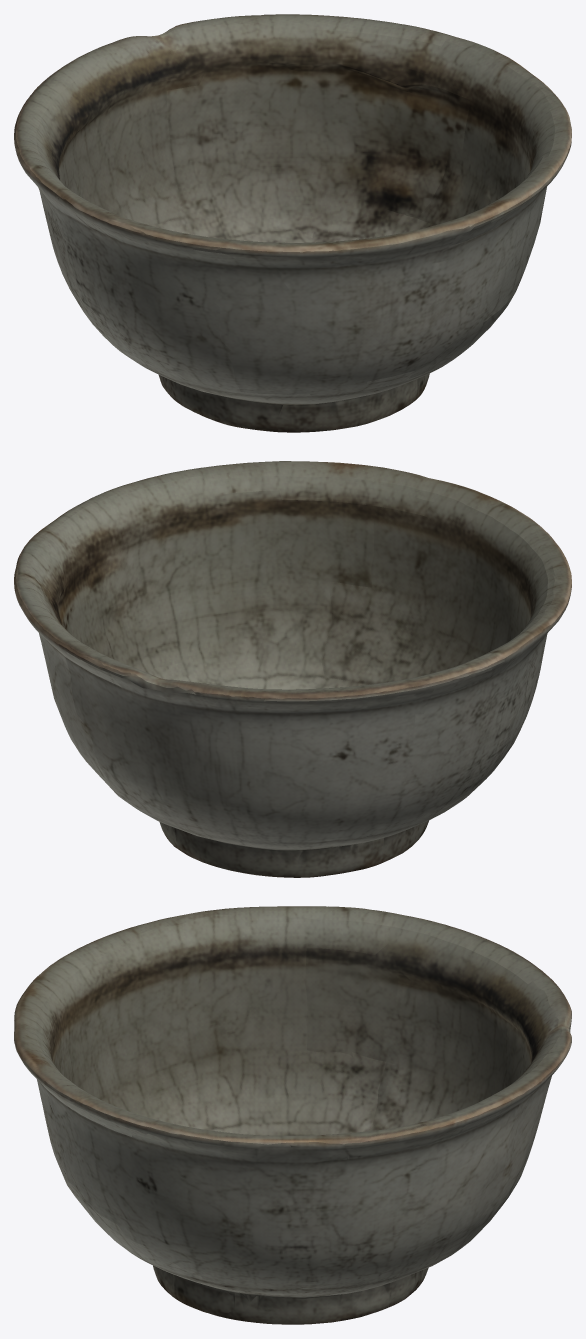
The model's file is celadon-bowl.glb.
The picture shows the model from 3 angles, top to bottom: view 1: azimuth 30°, elevation 25°; view 2: azimuth 150°, elevation 25°; view 3: azimuth 270°, elevation 25°; orthographic projection.
Parts seen in each view (by area): view 1: world; view 2: world; view 3: world.
Part boxes in pixels (box(x1,y1,x2,y2)): world: box(14, 14, 571, 432); world: box(14, 461, 571, 877); world: box(14, 906, 571, 1324).
Bounding box in the file's own units: 0.12 × 0.059 × 0.1199.
Materials: 1 (1 with a texture image).
